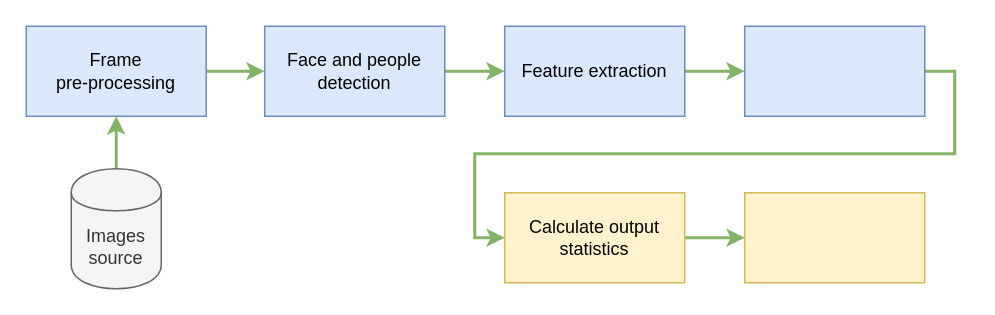
Some shapes in this 995 by 315 pixel diagram are drawn without their labels. The shapes that lost their labels are listed below. From the top down, each one's centre as x and y in pixels, then its label:
the point at 834,70: Track-to-detection matching
the point at 834,237: Visualize results
